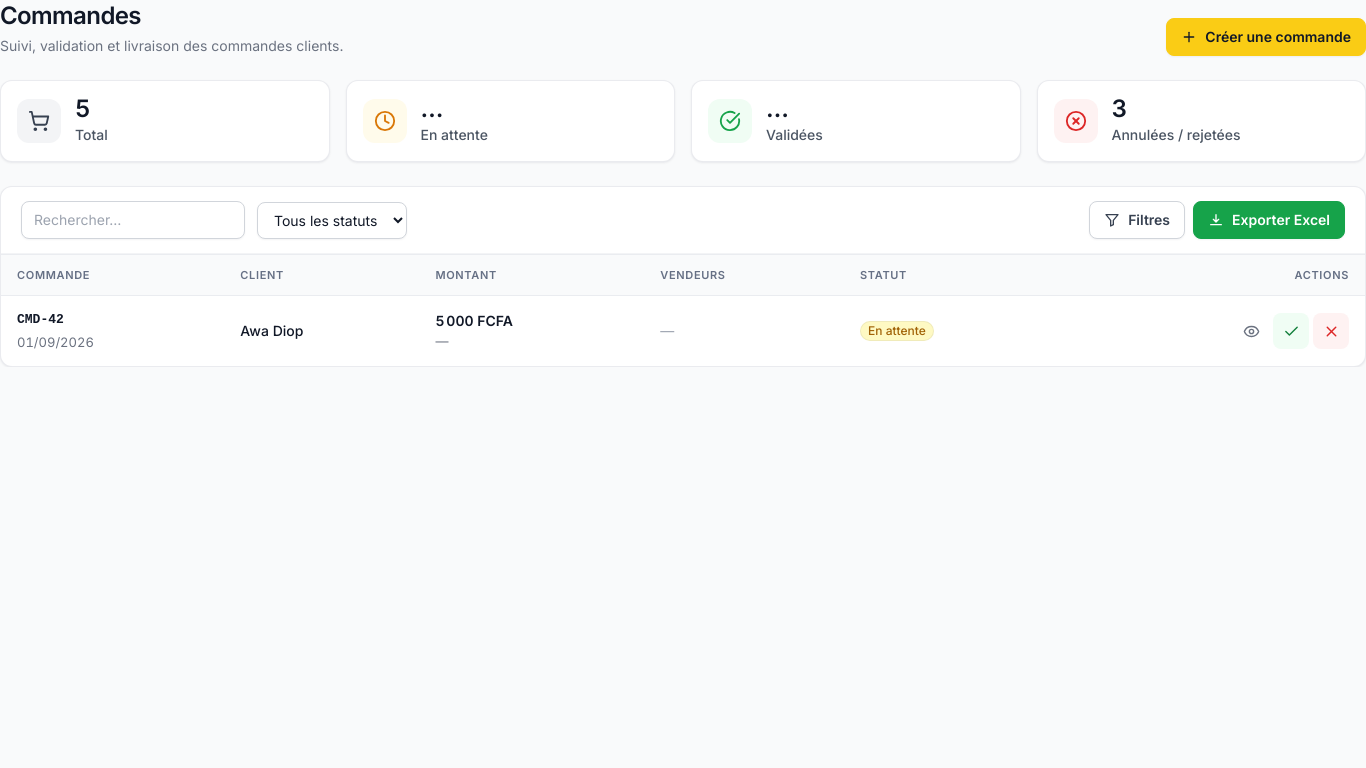
Test: Commandes : rejet depuis le dashboard › liste : le modal envoie { motif } sur PATCH /admin/commandes/:id/rejeter
expect the text "CMD-42" is shown: met, box [17, 312, 64, 327]
Click the button named "Rejeter la commande" at (1331, 331), box [1313, 313, 1349, 349]
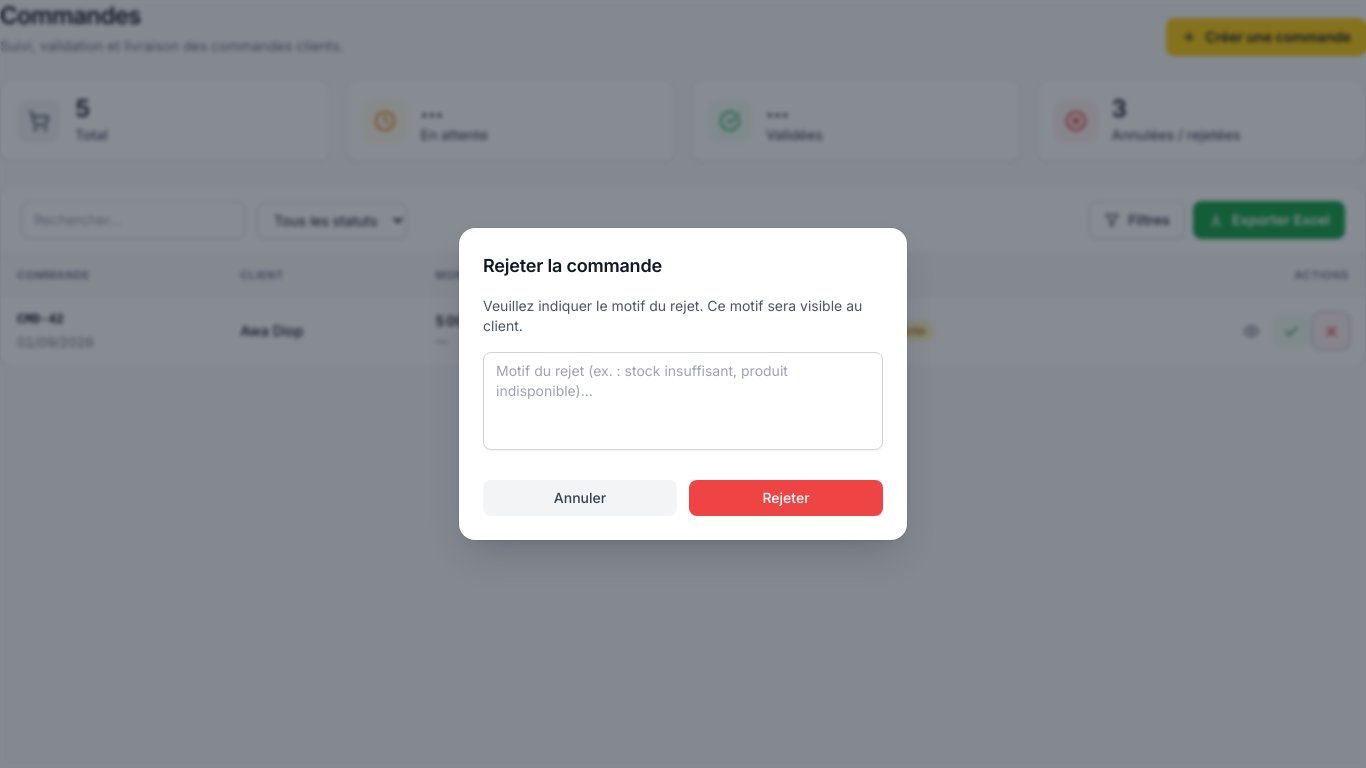
Type "Stock insuffisant" into the text box labelled "Motif du rejet" at (683, 401), box [483, 352, 883, 450]
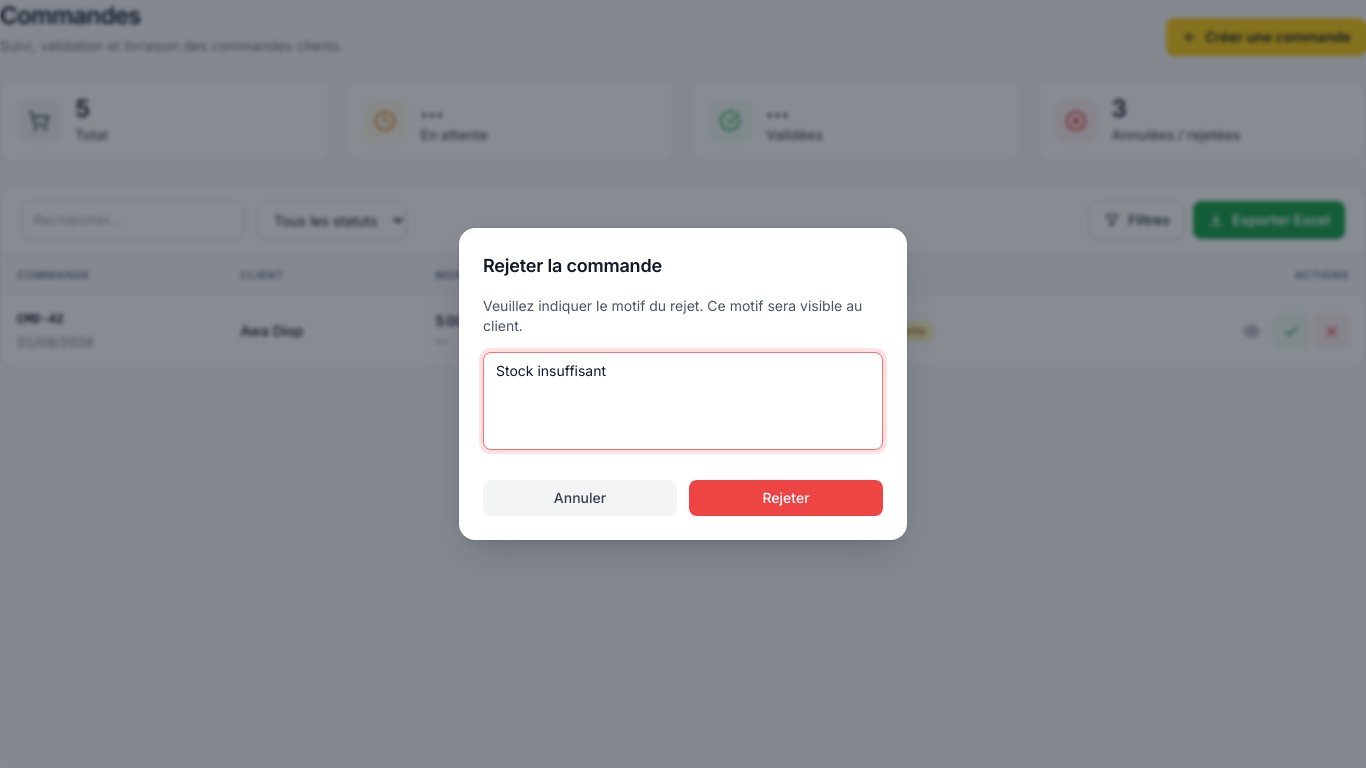
Click the button "Rejeter" at (786, 498), box [689, 480, 883, 516]
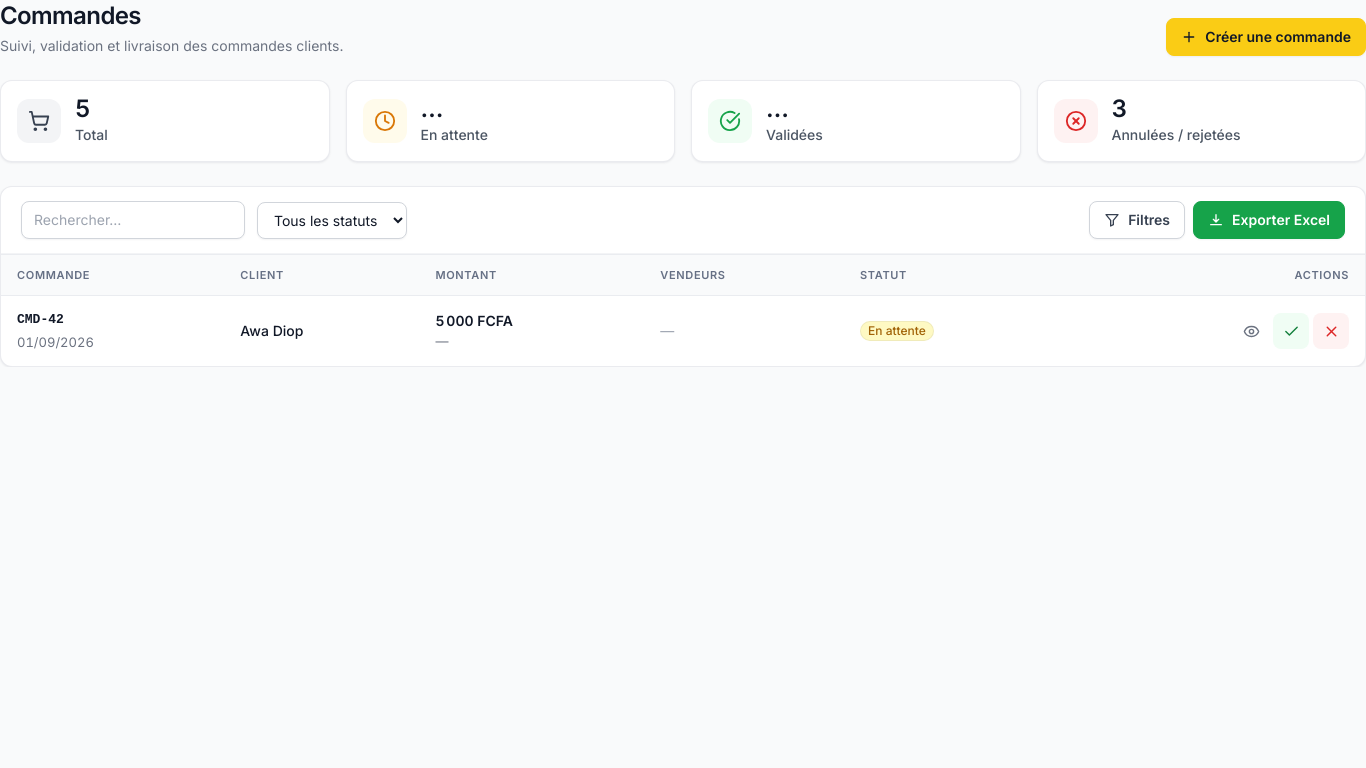
expect the dialog is gone: met
